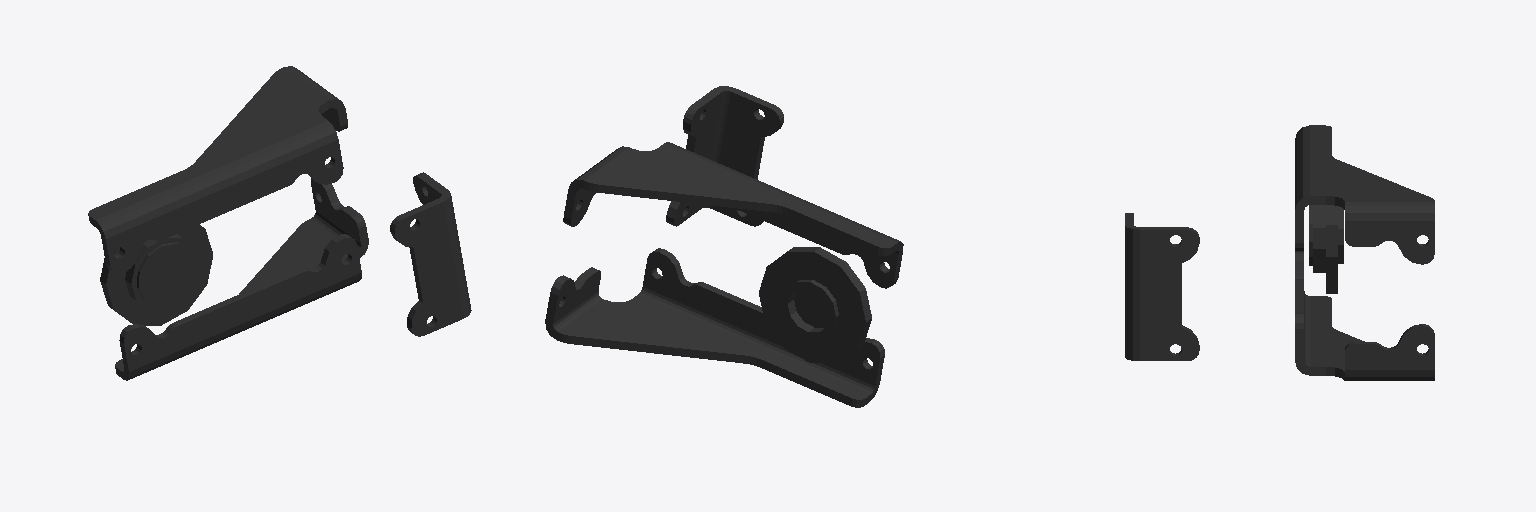
Rendered from roki_Robot_Football_Player_SKS_2501_Servov12_10_v1_1_mesh_3.obj.
The picture shows the model from 3 angles: view 1: azimuth 30°, elevation 25°; view 2: azimuth 150°, elevation 25°; view 3: azimuth 270°, elevation 25°; orthographic projection.
Bounding box in the file's own units: 0.054 × 0.0378 × 0.05.